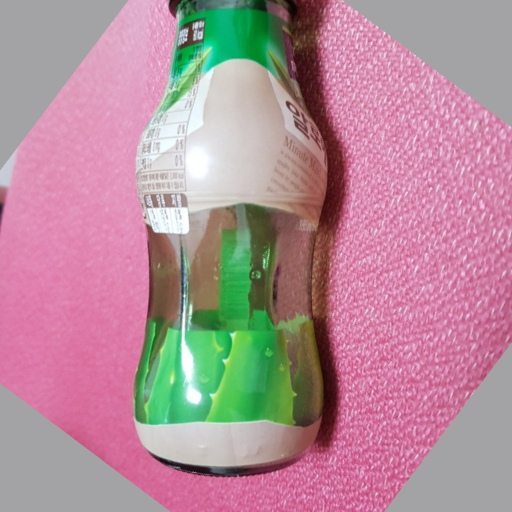Glass_4: (132, 1, 340, 480)
